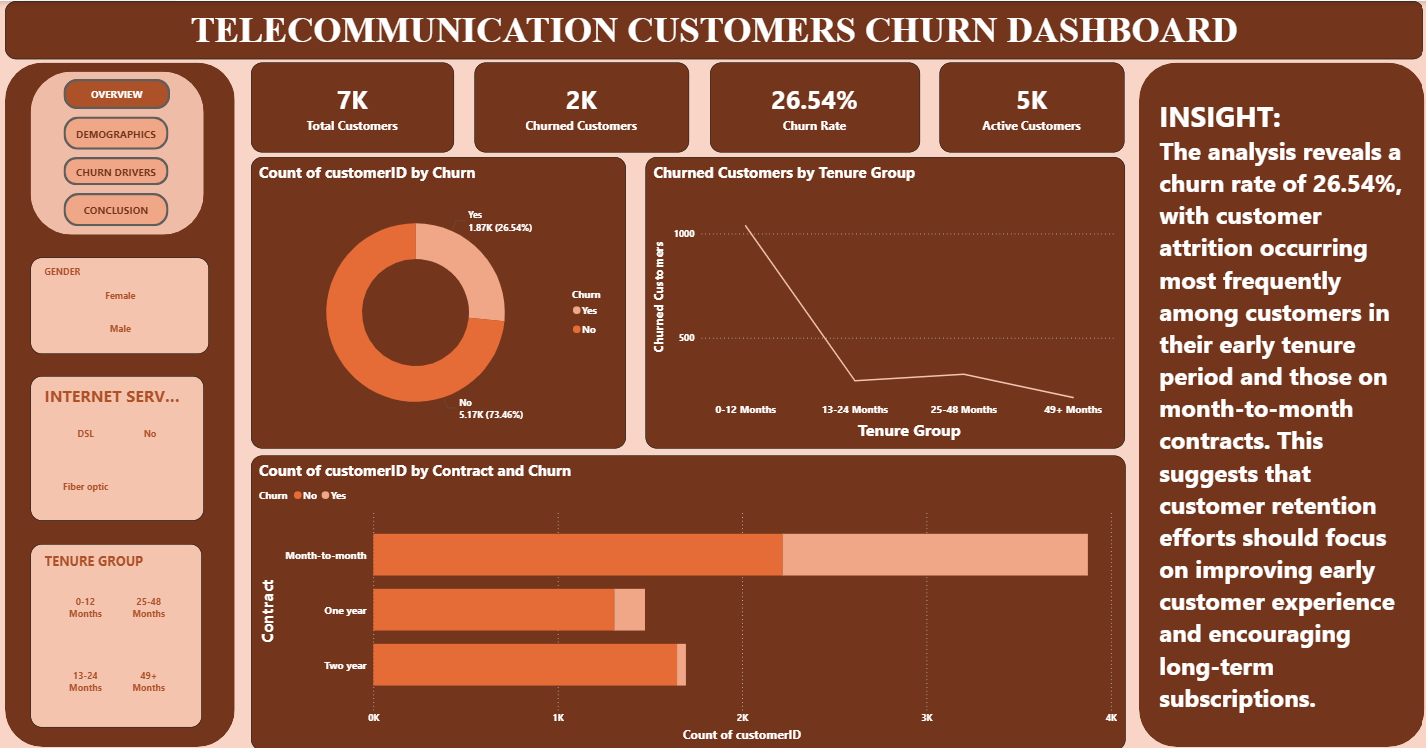

The dashboard page shown, as its layout file describes it:
{"tool":"powerbi","page":{"name":"Customer Churn Overview","canvas":[1900,1000],"ordinal":0},"visuals":[{"type":"shape","box":[8.8,81.7,304.9,908],"z":0},{"type":"cardVisual","fields":{"Data":["Telco_Customer_Churn_Dataset  (2).Churned Customers"]},"box":[630.4,81.7,285,119.3],"z":1000},{"type":"cardVisual","fields":{"Data":["Telco_Customer_Churn_Dataset  (2).Churn Rate %"]},"box":[942.6,81.7,278.4,119.3],"z":2000},{"type":"cardVisual","fields":{"Data":["Telco_Customer_Churn_Dataset  (2).Active Customers"]},"box":[1248.2,81.7,245.2,119.3],"z":3000},{"type":"slicer","fields":{"Values":["Telco_Customer_Churn_Dataset  (2).gender"]},"box":[42,339.5,236.4,128.1],"z":4000},{"type":"slicer","fields":{"Values":["Telco_Customer_Churn_Dataset  (2).InternetService"]},"box":[42,497.8,229.8,192.2],"z":5000},{"type":"cardVisual","fields":{"Data":["Telco_Customer_Churn_Dataset  (2).Total Customers"]},"box":[333.6,81.7,269.5,119.3],"z":6000},{"type":"donutChart","fields":{"Category":["Telco_Customer_Churn_Dataset  (2).Churn"],"Y":["CountNonNull(Telco_Customer_Churn_Dataset  (2).customerID)"]},"box":[333.6,207.7,497.1,386.6],"z":7000},{"type":"lineChart","fields":{"Y":["Telco_Customer_Churn_Dataset  (2).Churned Customers"],"Category":["Telco_Customer_Churn_Dataset  (2).Tenure Group"]},"box":[857.2,207.7,636.2,386.6],"z":8000},{"type":"barChart","fields":{"Category":["Telco_Customer_Churn_Dataset  (2).Contract"],"Series":["Telco_Customer_Churn_Dataset  (2).Churn"],"Y":["CountNonNull(Telco_Customer_Churn_Dataset  (2).customerID)"]},"box":[333.6,603.1,1159.8,391],"z":9000},{"type":"shape","box":[42,92.8,229.8,216.5],"z":10000},{"type":"actionButton","box":[86.2,103.8,141.4,39.8],"z":11000},{"type":"actionButton","box":[86.2,152.4,139.2,44.2],"z":12000},{"type":"actionButton","box":[86.2,207.7,139.2,37.6],"z":13000},{"type":"shape","box":[1511.1,81.7,380,908],"z":14000},{"type":"slicer","fields":{"Values":["Telco_Customer_Churn_Dataset  (2).Tenure Group"]},"box":[42,720.2,227.5,243],"z":15000},{"type":"textbox","box":[8.8,0,1882.2,77],"z":16000},{"type":"textbox","box":[1533.2,121.5,340.2,841.7],"z":17000},{"type":"actionButton","box":[86.2,254.1,139.2,44.2],"z":18000}]}

Visuals, with their boxes in screenshot pixels (x1, y1, x2, y2), scaled from the page's 1900x1000 canvas onto the 1426x748 screenshot:
shape: [7,61,235,740]
cardVisual - Telco_Customer_Churn_Dataset  (2).Churned Customers: [473,61,687,150]
cardVisual - Telco_Customer_Churn_Dataset  (2).Churn Rate %: [707,61,916,150]
cardVisual - Telco_Customer_Churn_Dataset  (2).Active Customers: [937,61,1121,150]
slicer - Telco_Customer_Churn_Dataset  (2).gender: [32,254,209,350]
slicer - Telco_Customer_Churn_Dataset  (2).InternetService: [32,372,204,516]
cardVisual - Telco_Customer_Churn_Dataset  (2).Total Customers: [250,61,453,150]
donutChart - Telco_Customer_Churn_Dataset  (2).Churn x CountNonNull(Telco_Customer_Churn_Dataset  (2).customerID): [250,155,623,445]
lineChart - Telco_Customer_Churn_Dataset  (2).Churned Customers x Telco_Customer_Churn_Dataset  (2).Tenure Group: [643,155,1121,445]
barChart - Telco_Customer_Churn_Dataset  (2).Contract x Telco_Customer_Churn_Dataset  (2).Churn: [250,451,1121,744]
shape: [32,69,204,231]
actionButton: [65,78,171,107]
actionButton: [65,114,169,147]
actionButton: [65,155,169,183]
shape: [1134,61,1419,740]
slicer - Telco_Customer_Churn_Dataset  (2).Tenure Group: [32,539,202,720]
textbox: [7,0,1419,58]
textbox: [1151,91,1406,720]
actionButton: [65,190,169,223]
